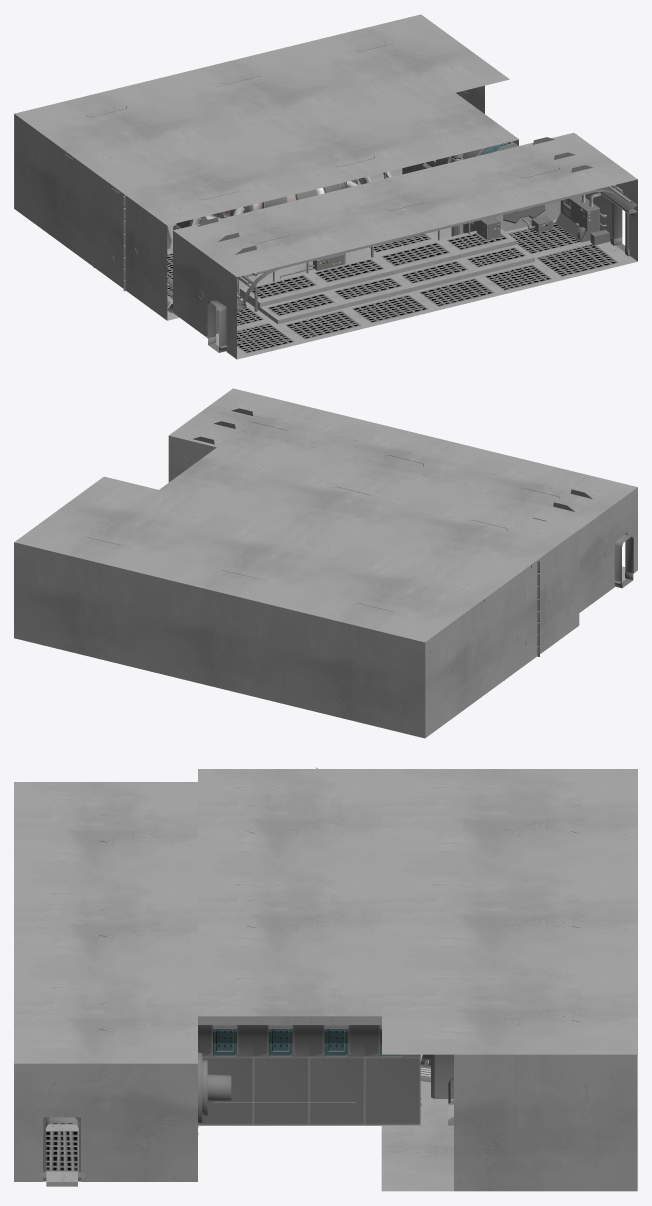
The model's file is MSH_Fusion_reactor_room_L3_R3_optimized.fbx.
3 views of the same model, one above another, from view 1: azimuth 30°, elevation 25°; view 2: azimuth 150°, elevation 25°; view 3: azimuth 270°, elevation 25° (orthographic). The views are drawn at different scales.
Visible parts, largest first — view 1: lightmap0, lightmap1, lightmap-1; view 2: lightmap0, lightmap1, lightmap-1; view 3: lightmap0, lightmap1.
Boxes of the visible parts, bbox=[...] form: lightmap0: bbox=[14, 14, 637, 359]; lightmap1: bbox=[65, 43, 637, 333]; lightmap-1: bbox=[207, 204, 625, 352]; lightmap0: bbox=[14, 388, 637, 738]; lightmap1: bbox=[81, 408, 604, 680]; lightmap-1: bbox=[614, 534, 633, 588]; lightmap0: bbox=[14, 769, 637, 1191]; lightmap1: bbox=[99, 767, 579, 1134].
Bounding box in the file's own units: 31 × 6.86 × 28.01.
Materials: 4 (3 with a texture image).
